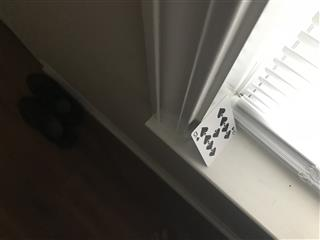NineOfSpades: (190, 94, 237, 168)
